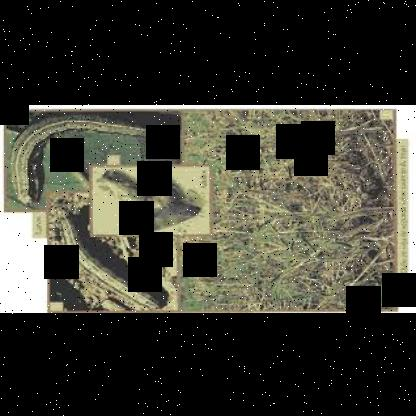oruga: (1, 113, 173, 207), (50, 216, 172, 308)
